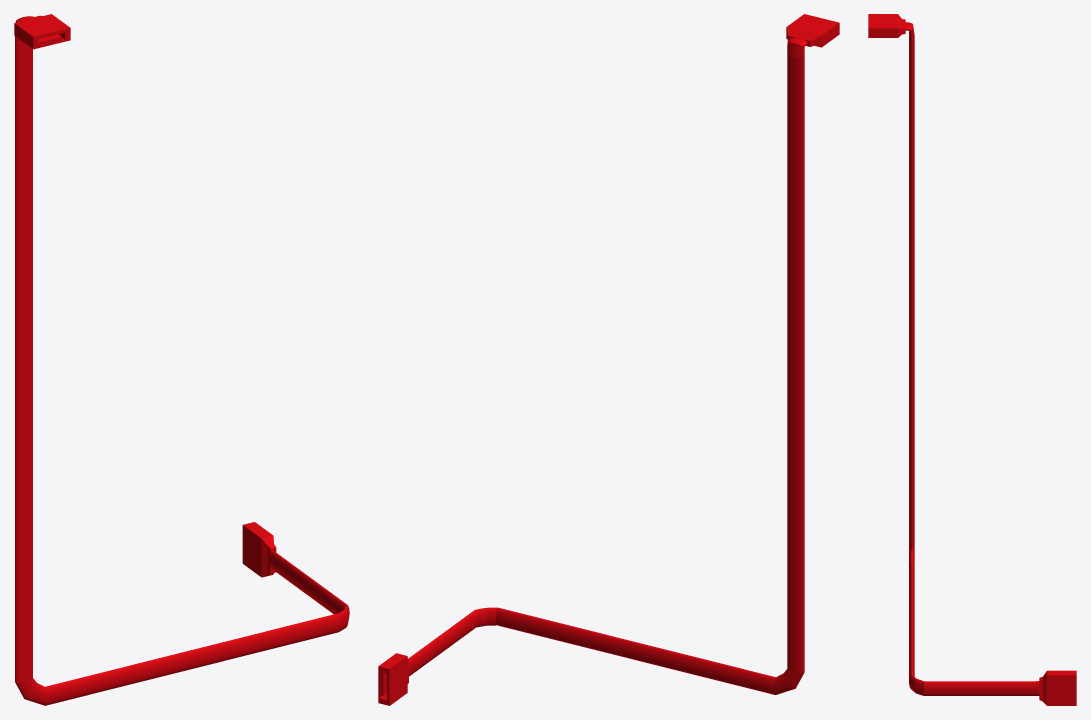
The model's file is SataCable1.fbx.
3 views of the same model, side by side, from view 1: azimuth 30°, elevation 25°; view 2: azimuth 150°, elevation 25°; view 3: azimuth 270°, elevation 25° (orthographic). The views are drawn at different scales.
Parts seen in each view (by area): view 1: SATACable1; view 2: SATACable1; view 3: SATACable1.
Part boxes in pixels (<box>): SATACable1: <box>14,14,349,705</box>; SATACable1: <box>378,14,839,705</box>; SATACable1: <box>868,14,1076,705</box>.
Size of the model in its own units: 136 by 259 by 88.07.
